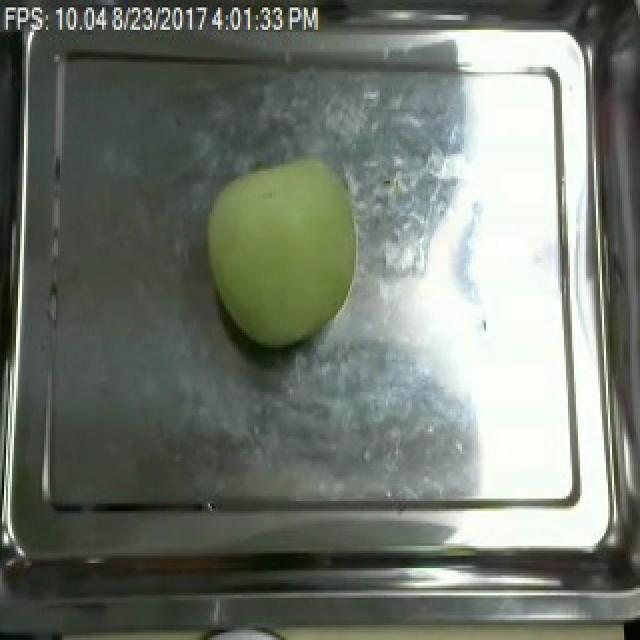50-_ripeness: (202, 139, 379, 380)
